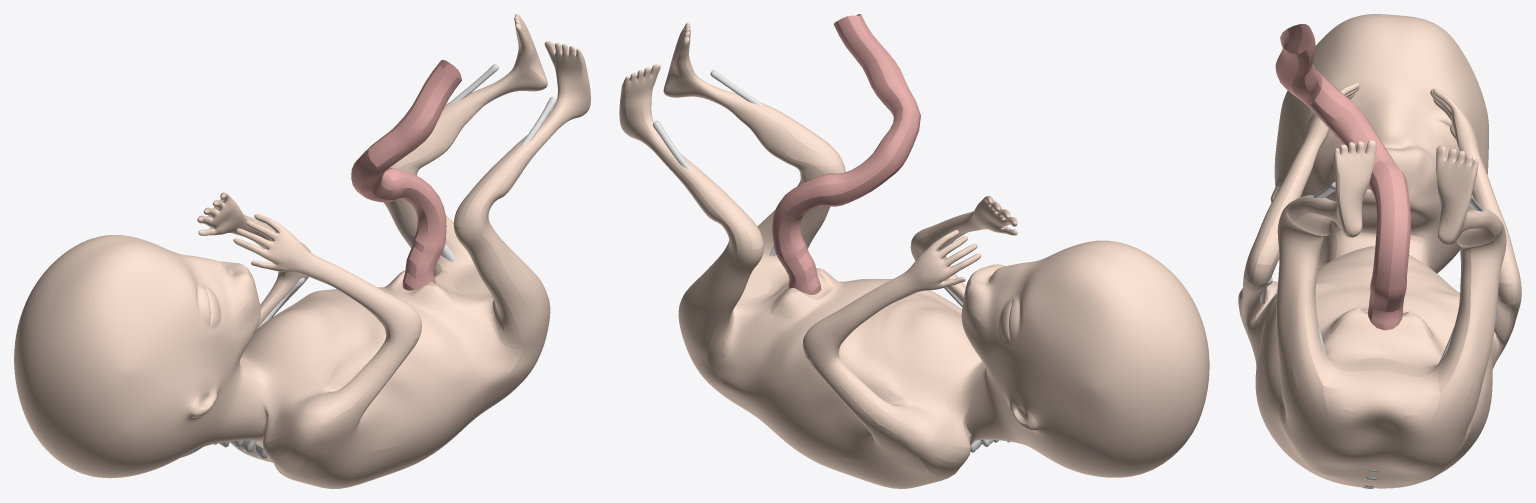
File: week12.glb
3 views of the same model, side by side, from view 1: azimuth 30°, elevation 25°; view 2: azimuth 150°, elevation 25°; view 3: azimuth 270°, elevation 25° (orthographic). The views are drawn at different scales.
Parts seen in each view (by area): view 1: FetusBody_Skin_Master, UmbilicalCord_Master, legbones; view 2: FetusBody_Skin_Master, UmbilicalCord_Master, legbones; view 3: FetusBody_Skin_Master, UmbilicalCord_Master, legbones.
Boxes of the visible parts, x1,y1,x2,y2 form: FetusBody_Skin_Master: (14, 14, 590, 488); UmbilicalCord_Master: (351, 60, 461, 290); legbones: (441, 64, 556, 261); FetusBody_Skin_Master: (619, 22, 1209, 488); UmbilicalCord_Master: (772, 14, 920, 294); legbones: (652, 70, 776, 255); FetusBody_Skin_Master: (1238, 14, 1521, 488); UmbilicalCord_Master: (1275, 24, 1410, 330); legbones: (1313, 182, 1483, 363).
Bounding box in the file's own units: 0.9924 × 0.7138 × 0.3855.
